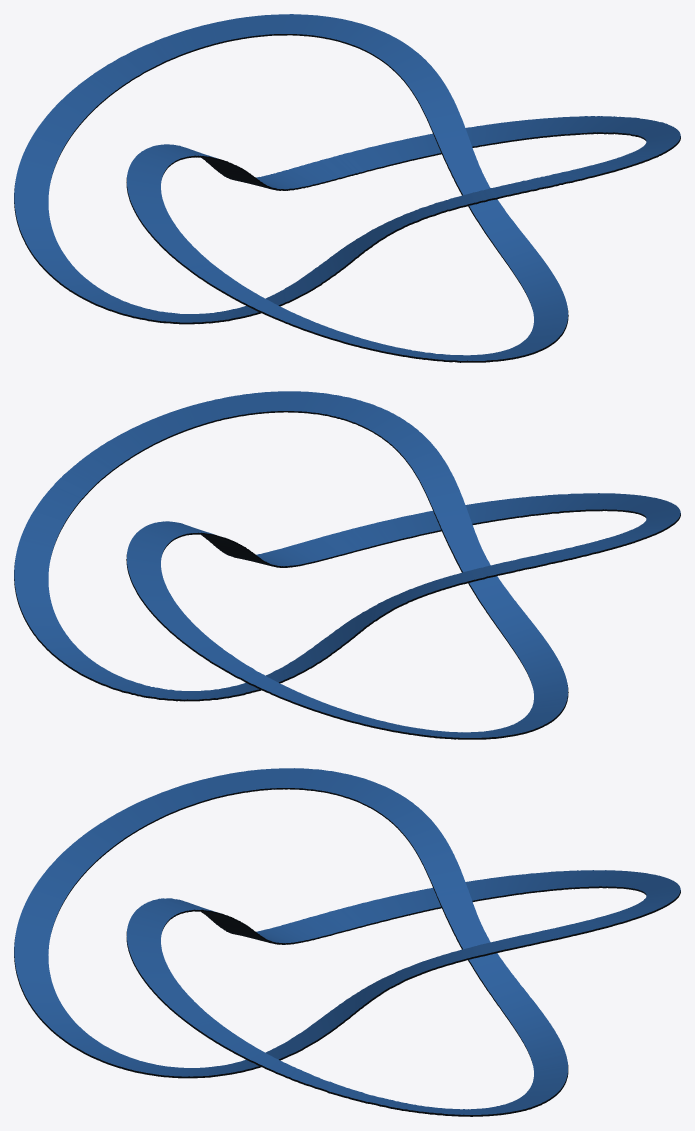
Rendered from prismatic-track.obj.
The picture shows the model from 3 angles, top to bottom: view 1: azimuth 30°, elevation 25°; view 2: azimuth 150°, elevation 25°; view 3: azimuth 270°, elevation 25°; orthographic projection.
Parts seen in each view (by area): view 1: prismatic-road_part_0, carbon-road-chassis_part_1; view 2: prismatic-road_part_0, carbon-road-chassis_part_1; view 3: prismatic-road_part_0, carbon-road-chassis_part_1.
Boxes of the visible parts, x1,y1,x2,y2 form: prismatic-road_part_0: (14,14,680,360); carbon-road-chassis_part_1: (14,34,680,362); prismatic-road_part_0: (14,391,680,737); carbon-road-chassis_part_1: (14,411,680,739); prismatic-road_part_0: (14,768,680,1114); carbon-road-chassis_part_1: (14,788,680,1116).
Size of the model in its own units: 260 by 63.51 by 273.
